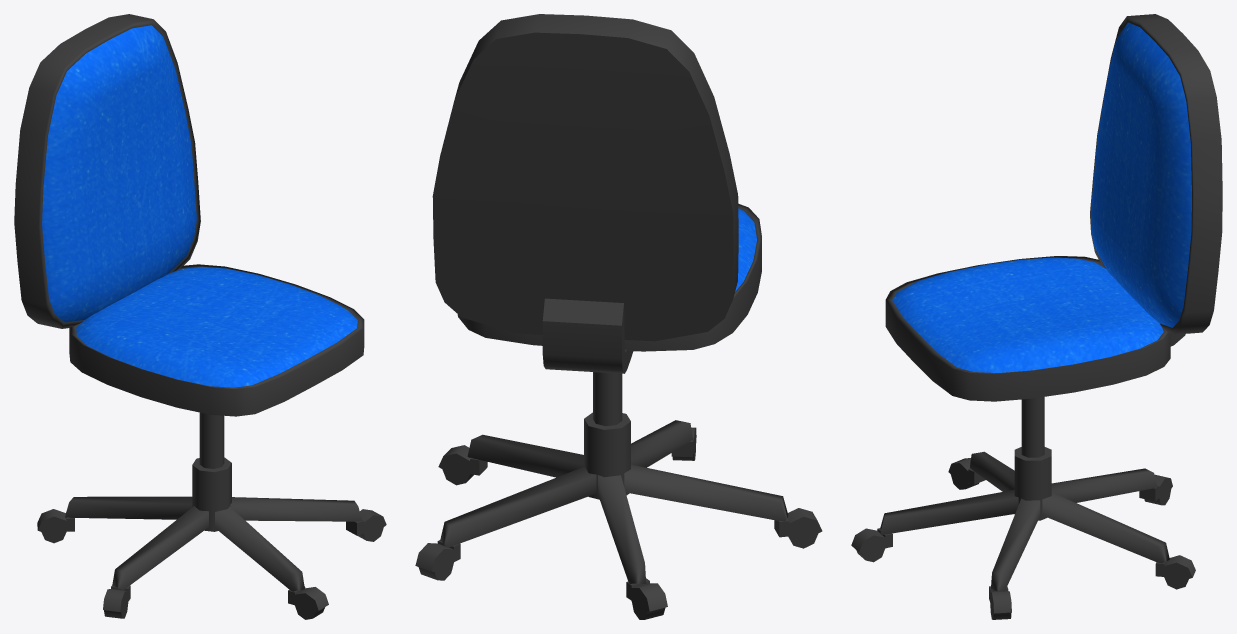
The model's file is Cadeira_Escritorio.fbx.
3 views of the same model, side by side, from view 1: azimuth 30°, elevation 25°; view 2: azimuth 150°, elevation 25°; view 3: azimuth 270°, elevation 25° (orthographic). The views are drawn at different scales.
Parts seen in each view (by area): view 1: desk_chair_foot; view 2: desk_chair_foot; view 3: desk_chair_foot.
Part boxes in pixels (x1=…): desk_chair_foot: x1=14, y1=14, x2=386, y2=619; desk_chair_foot: x1=415, y1=14, x2=822, y2=619; desk_chair_foot: x1=851, y1=14, x2=1222, y2=619.
Bounding box in the file's own units: 84.31 × 129 × 88.2.
